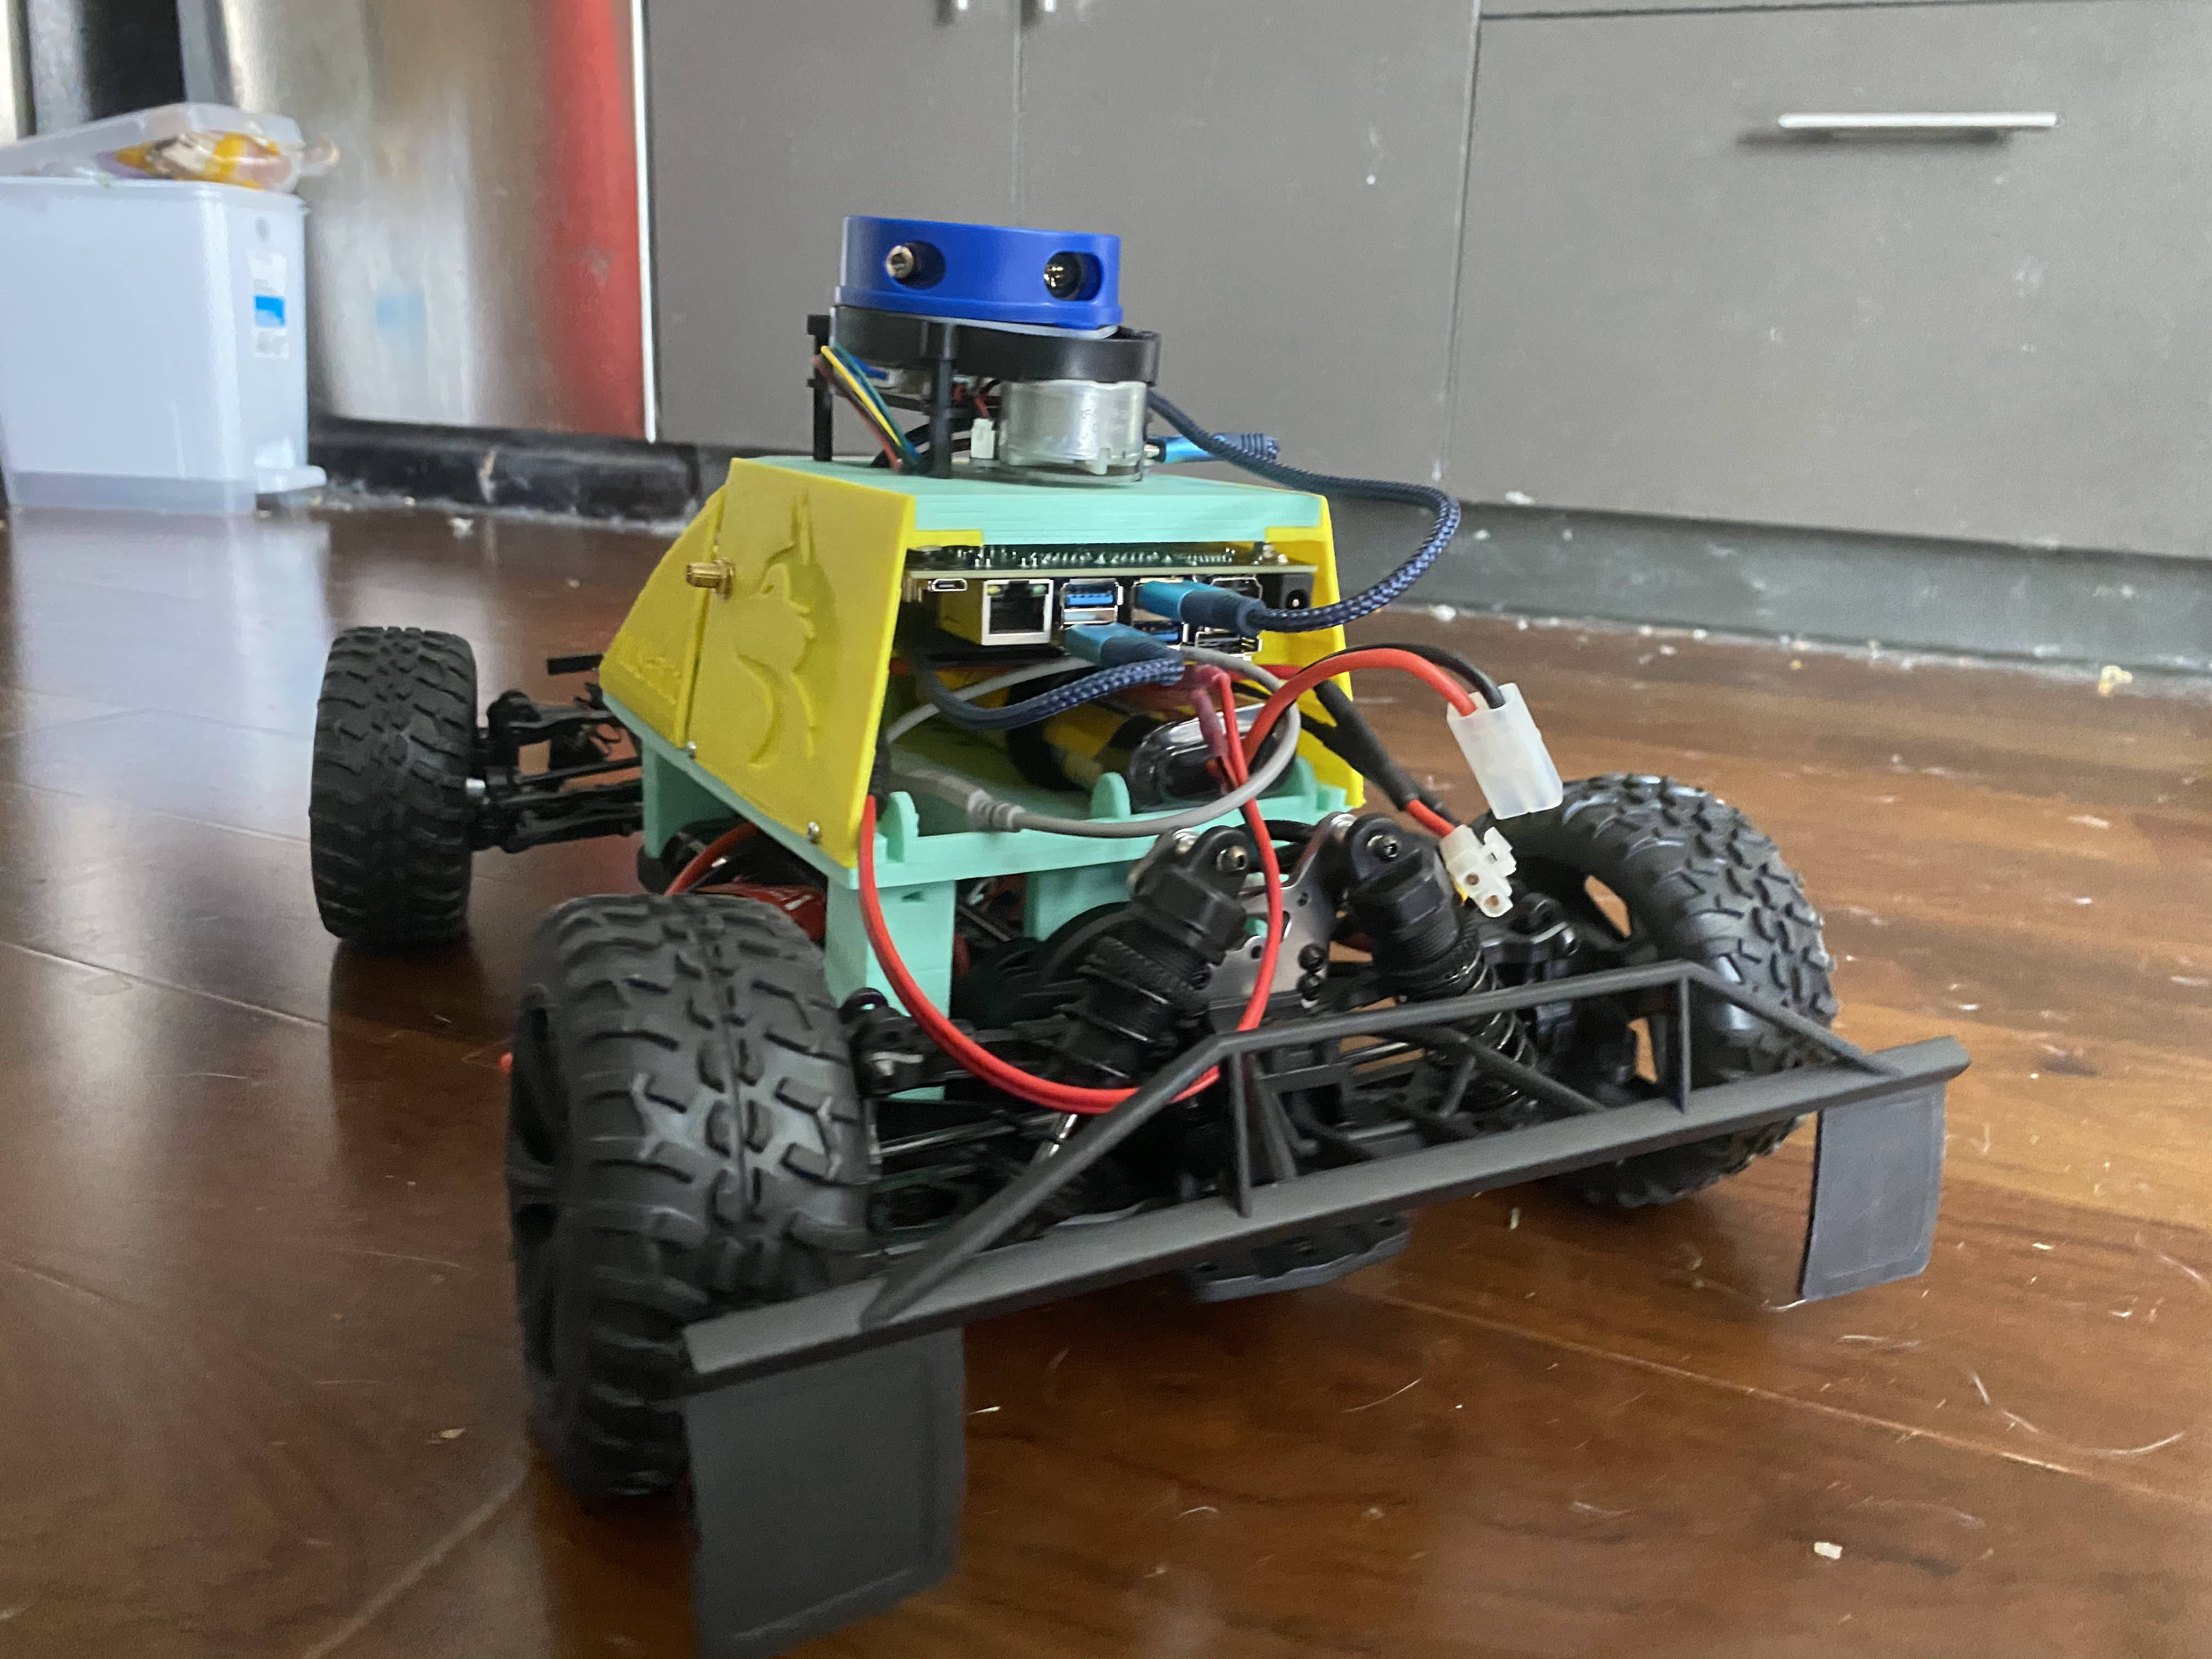mushr_car: (273, 221, 1968, 1635)
